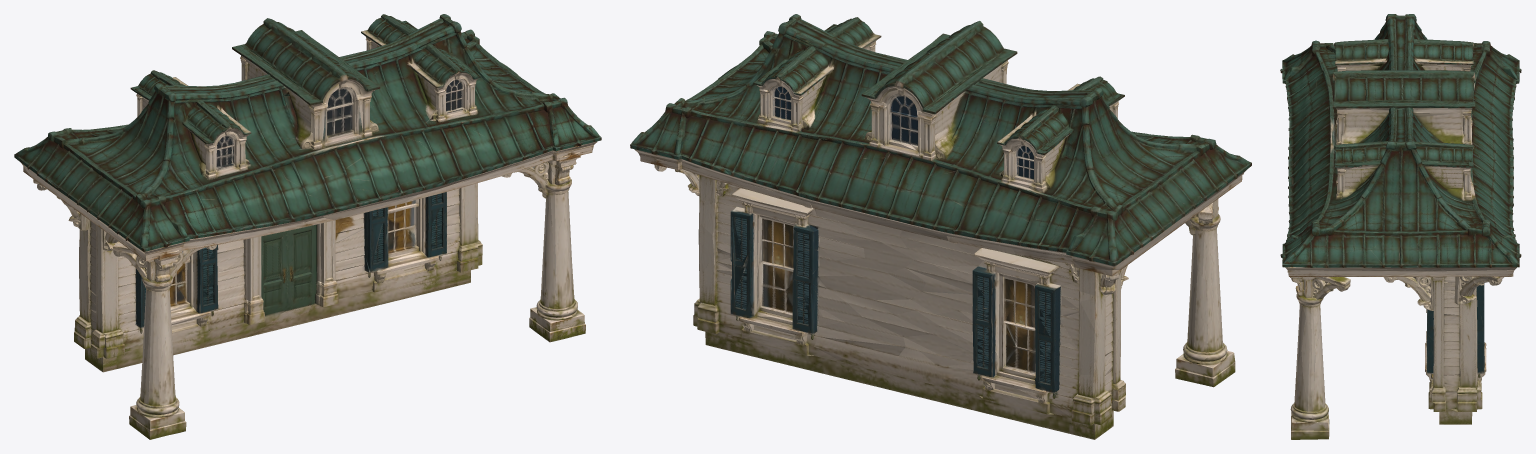
File: storm-veranda.glb
3 renders of one model, left to right at view 1: azimuth 30°, elevation 25°; view 2: azimuth 150°, elevation 25°; view 3: azimuth 270°, elevation 25°, orthographic. The views are drawn at different scales.
Visible parts, largest first — view 1: storm-veranda_LOD0; view 2: storm-veranda_LOD0; view 3: storm-veranda_LOD0.
Part boxes in pixels (x1,y1,x2,y2): storm-veranda_LOD0: [14, 14, 601, 439]; storm-veranda_LOD0: [630, 14, 1251, 439]; storm-veranda_LOD0: [1280, 14, 1521, 439].
Bounding box in the file's own units: 1.89 × 1.16 × 0.9339.
Materials: 1 (1 with a texture image).
